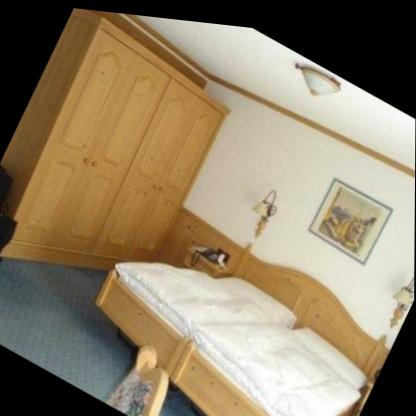Bed: (63, 176, 401, 416)
Closet: (0, 0, 245, 352)
